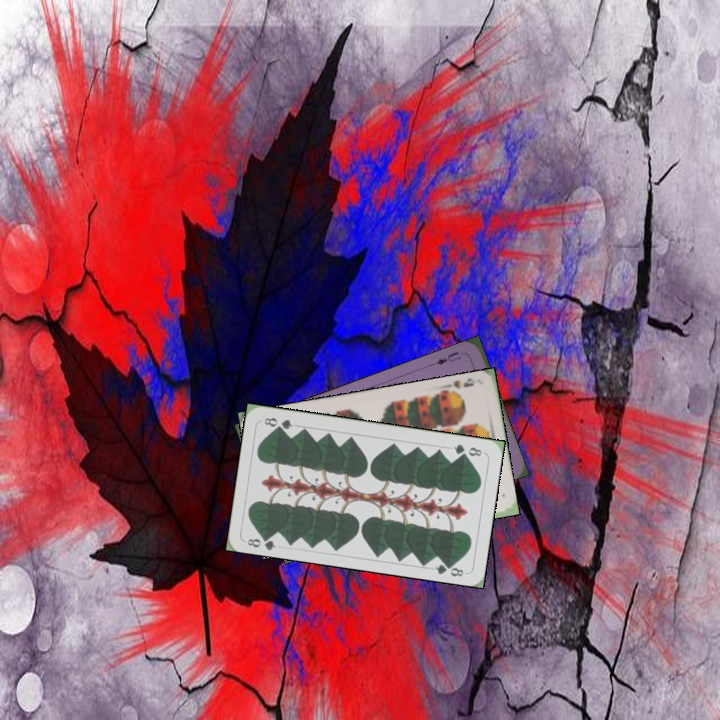EU: (428, 347, 463, 368)
G8: (241, 530, 278, 552), (449, 440, 485, 459)
S9: (439, 375, 479, 398)
